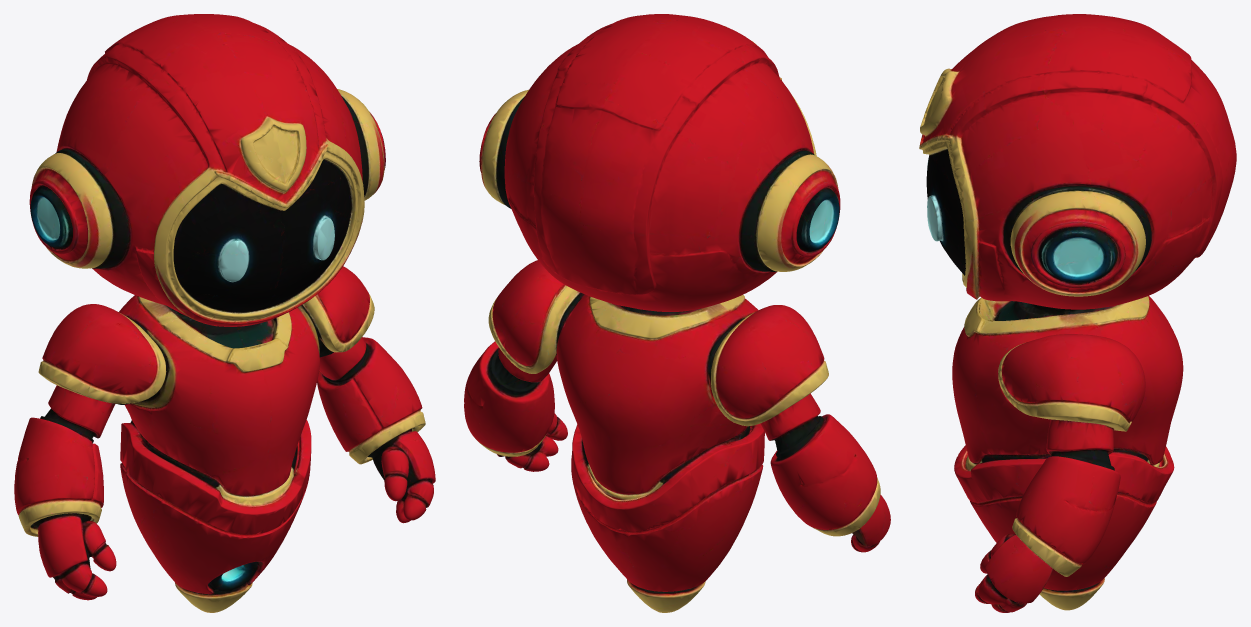
The model's file is security.glb.
3 views of the same model, side by side, from view 1: azimuth 30°, elevation 25°; view 2: azimuth 150°, elevation 25°; view 3: azimuth 270°, elevation 25° (orthographic).
Bounding box in the file's own units: 1.37 × 1.9 × 0.941.
1 material, 1 textured.
